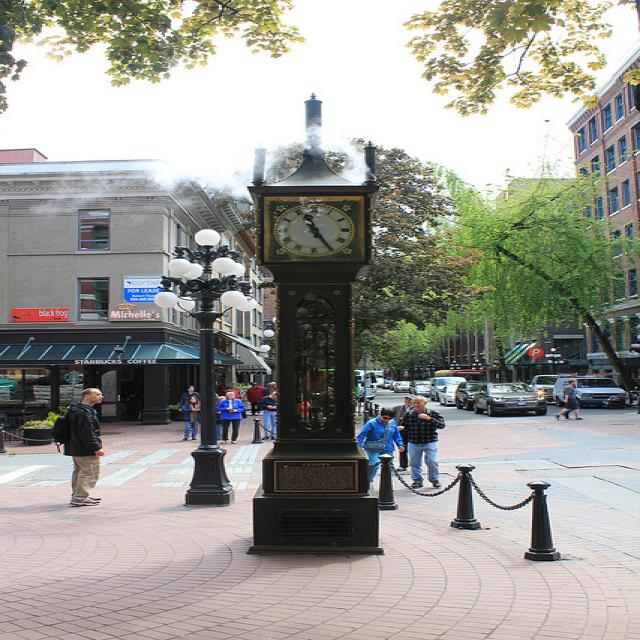Vehicle: (473, 382, 548, 417), (554, 377, 626, 407), (528, 374, 582, 402), (428, 376, 468, 406), (455, 381, 491, 411), (409, 382, 431, 398), (394, 381, 410, 393), (389, 382, 396, 389)
